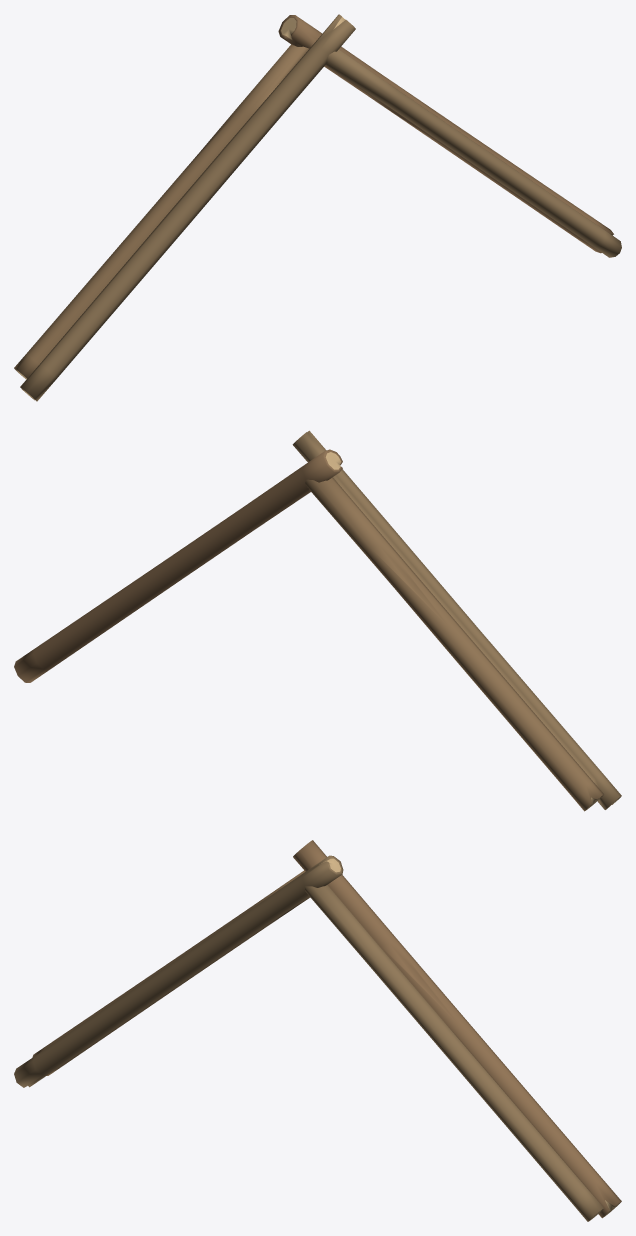
File: rpgpp_ag_roof_01_9x4x3_end_01a.fbx
3 views of the same model, one above another, from view 1: azimuth 30°, elevation 25°; view 2: azimuth 150°, elevation 25°; view 3: azimuth 330°, elevation 25° (orthographic). The views are drawn at different scales.
Visible parts, largest first — view 1: rpgpp_ag_roof_01_9x4x3_end_01a; view 2: rpgpp_ag_roof_01_9x4x3_end_01a; view 3: rpgpp_ag_roof_01_9x4x3_end_01a.
Part boxes in pixels (box(x1,y1,x2,y2)): rpgpp_ag_roof_01_9x4x3_end_01a: box(14, 14, 621, 401); rpgpp_ag_roof_01_9x4x3_end_01a: box(14, 430, 621, 811); rpgpp_ag_roof_01_9x4x3_end_01a: box(14, 840, 621, 1221).
Bounding box in the file's own units: 10.9 × 5.39 × 0.8044.
